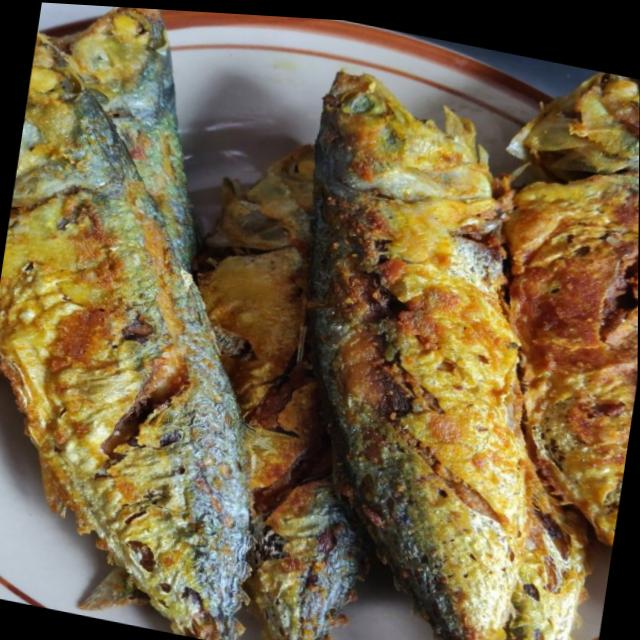ikan goreng: (0, 0, 339, 640), (241, 54, 599, 640), (151, 123, 408, 640), (444, 45, 640, 557)
